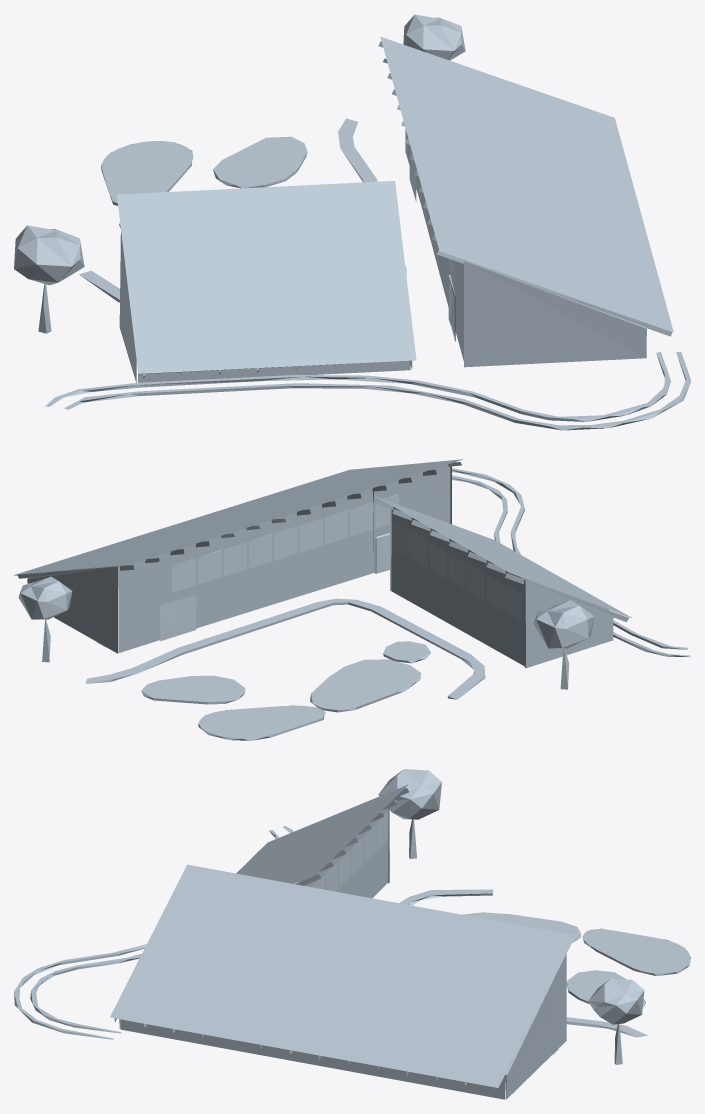
3 renders of one model, top to bottom at view 1: azimuth 30°, elevation 25°; view 2: azimuth 150°, elevation 25°; view 3: azimuth 270°, elevation 25°, orthographic. The views are drawn at different scales.
Parts seen in each view (by area): view 1: Model; view 2: Model; view 3: Model.
Boxes of the visible parts, x1,y1,x2,y2 form: Model: (14, 14, 690, 430); Model: (14, 459, 690, 740); Model: (14, 769, 690, 1099).
Size of the model in its own units: 4.78 by 0.8065 by 4.84.
